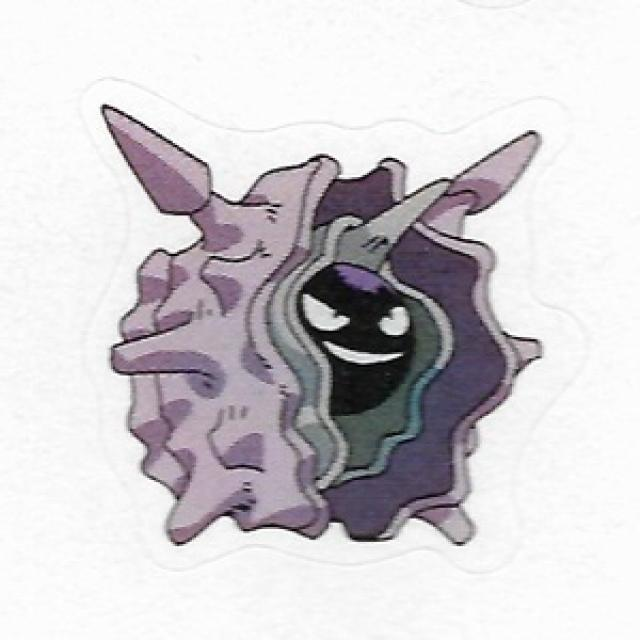Cloyster: (107, 106, 552, 544)
